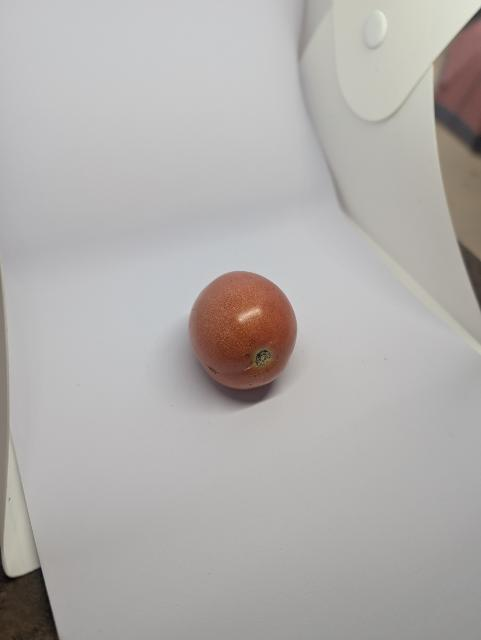red: (182, 264, 309, 415)
